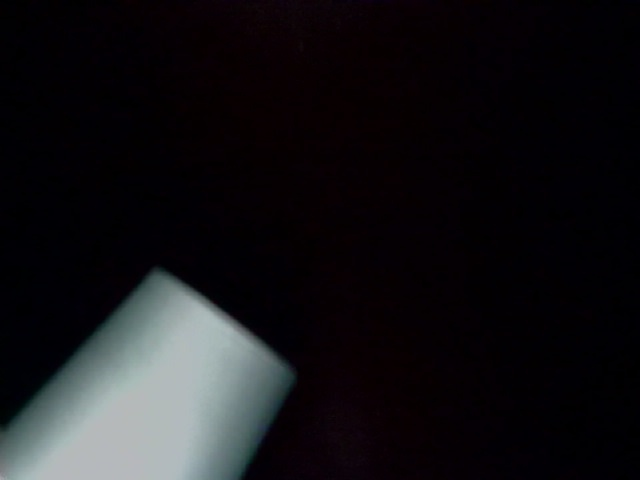KHSLJ: (29, 1, 541, 220)
